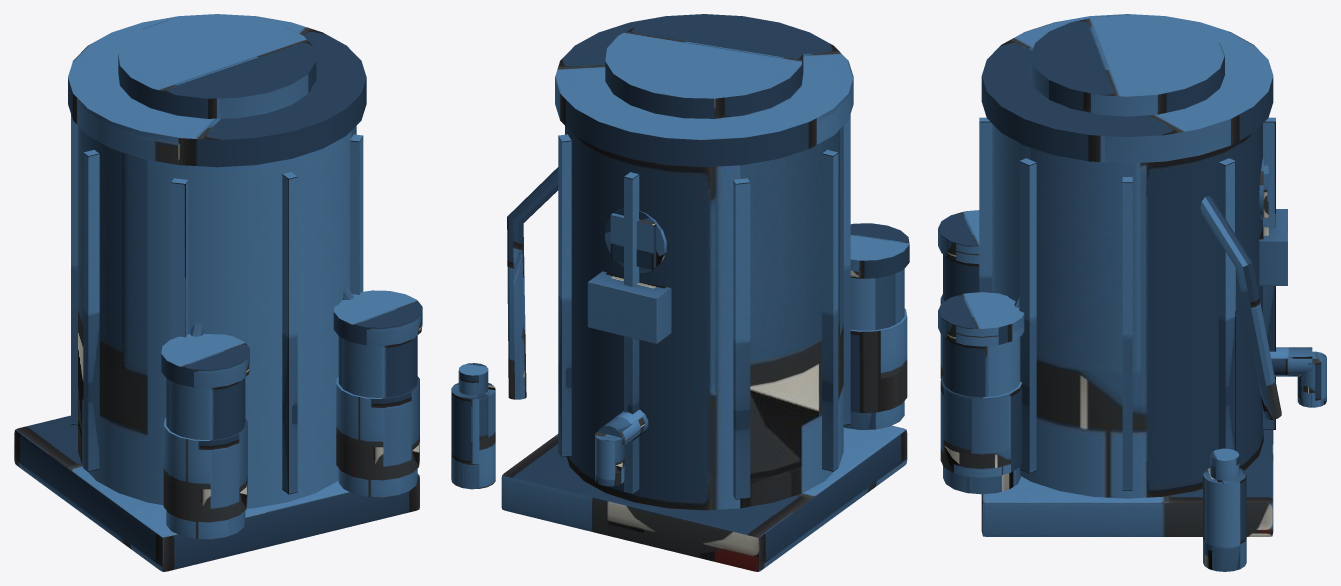
Rendered from DD_purifier.glb.
3 renders of one model, left to right at view 1: azimuth 30°, elevation 25°; view 2: azimuth 150°, elevation 25°; view 3: azimuth 270°, elevation 25°, orthographic. The views are drawn at different scales.
Parts seen in each view (by area): view 1: DD_purifier; view 2: DD_purifier; view 3: DD_purifier.
Boxes of the visible parts, box(x1,y1,x2,y2) form: DD_purifier: box(14, 14, 422, 571); DD_purifier: box(451, 14, 909, 571); DD_purifier: box(938, 14, 1326, 571).
Size of the model in its own units: 0.77 by 0.955 by 0.8.
Materials: 1 (1 with a texture image).
